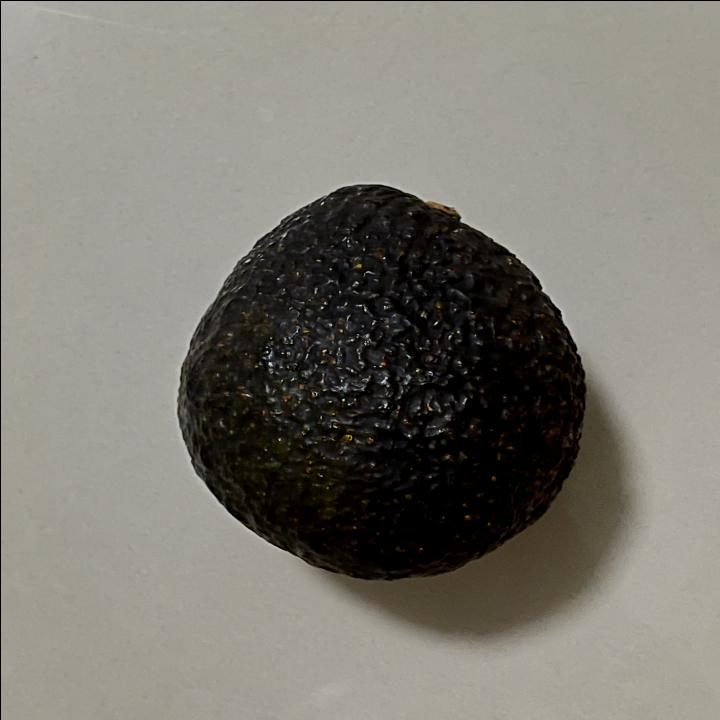Level2: (167, 178, 596, 588)
